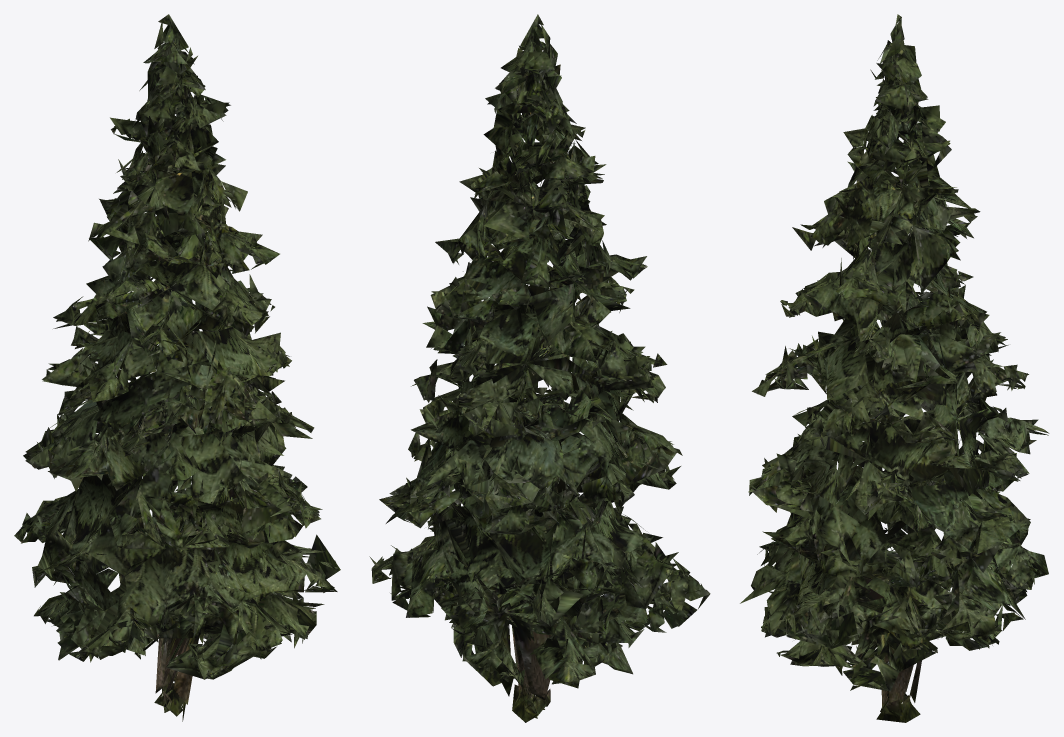
The model's file is Tree.fbx.
3 views of the same model, side by side, from view 1: azimuth 30°, elevation 25°; view 2: azimuth 150°, elevation 25°; view 3: azimuth 270°, elevation 25° (orthographic).
Parts seen in each view (by area): view 1: Tree_game; view 2: Tree_game; view 3: Tree_game.
Boxes of the visible parts, bbox=[...] form: Tree_game: bbox=[14, 14, 340, 721]; Tree_game: bbox=[369, 14, 710, 722]; Tree_game: bbox=[740, 14, 1049, 722].
Bounding box in the file's own units: 2.06 × 4.99 × 1.99.
Materials: 1 (1 with a texture image).
